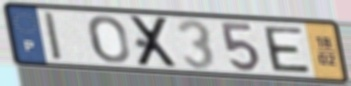3: (176, 16, 219, 74)
5: (218, 21, 264, 73)
E: (260, 25, 313, 76)
I: (41, 10, 66, 63)
O: (86, 14, 132, 65)
X: (128, 14, 181, 69)
